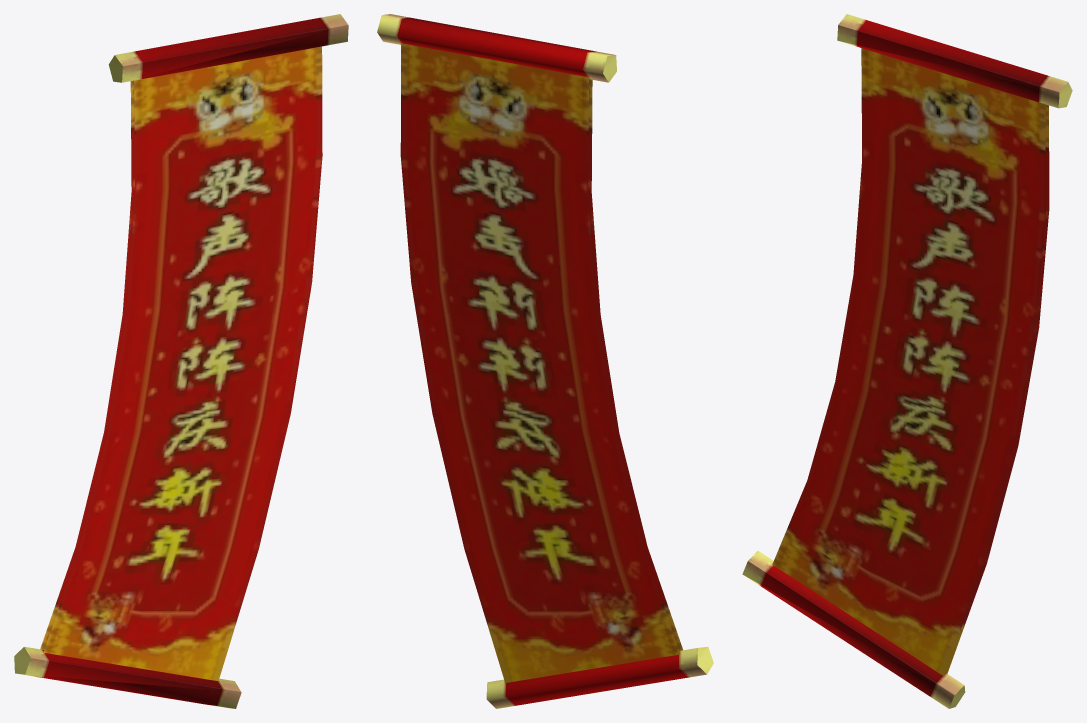
The model's file is furni_0200225.FBX.
The picture shows the model from 3 angles, left to right: view 1: azimuth 30°, elevation 25°; view 2: azimuth 150°, elevation 25°; view 3: azimuth 330°, elevation 25°; orthographic projection. The views are drawn at different scales.
Visible parts, largest first — view 1: furni_0200225; view 2: furni_0200225; view 3: furni_0200225.
Part boxes in pixels (left/top/right/bottom): furni_0200225: left=14, top=14, right=348, bottom=708; furni_0200225: left=377, top=14, right=713, bottom=708; furni_0200225: left=742, top=14, right=1072, bottom=708.
Size of the model in its own units: 76.77 by 153 by 5.63.
1 material, 1 textured.
